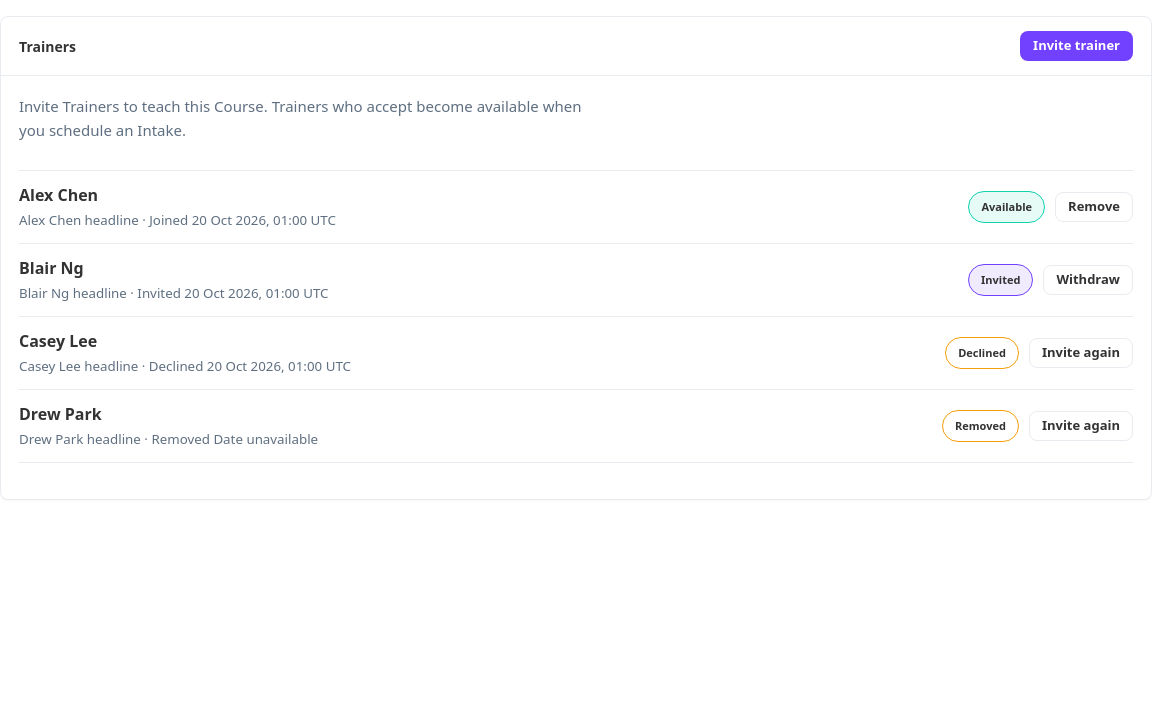
Test case: shows why an action failed
Click the button "Invite again" in the row of "Casey Lee headline" at point(1081, 353), box x1=1029 y1=338 x2=1133 y2=368
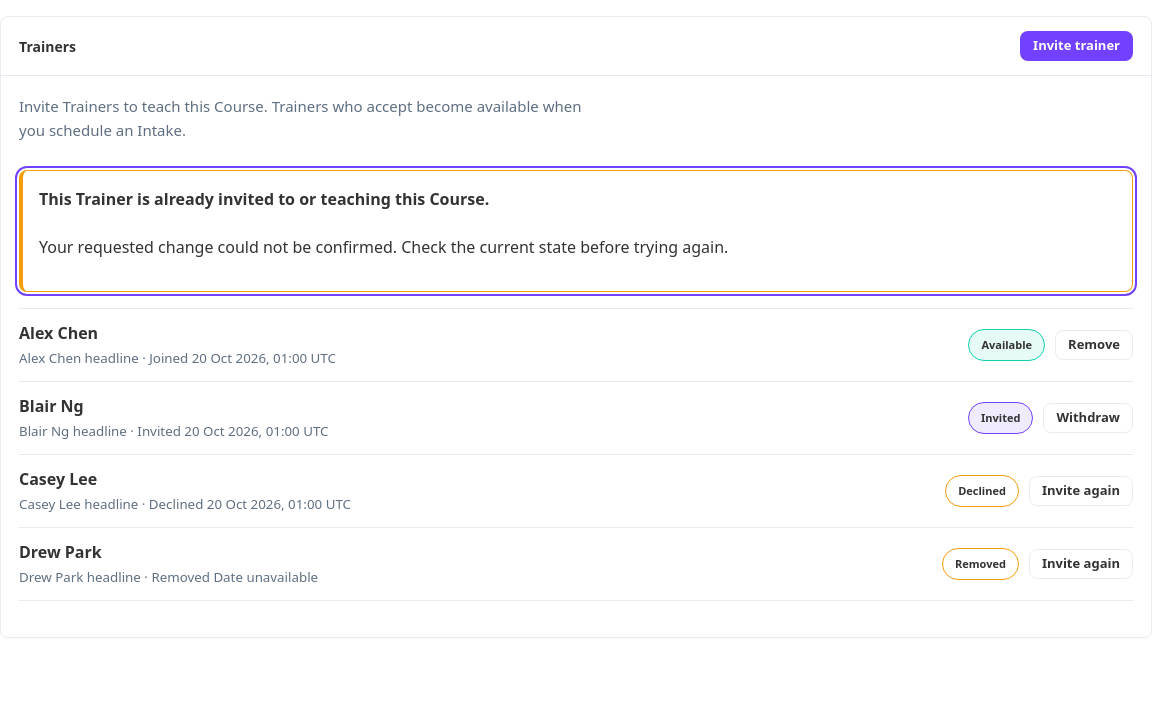
Result: the message shows "This Trainer is already invited to or teaching this Course." at x1=39 y1=188 x2=489 y2=210
